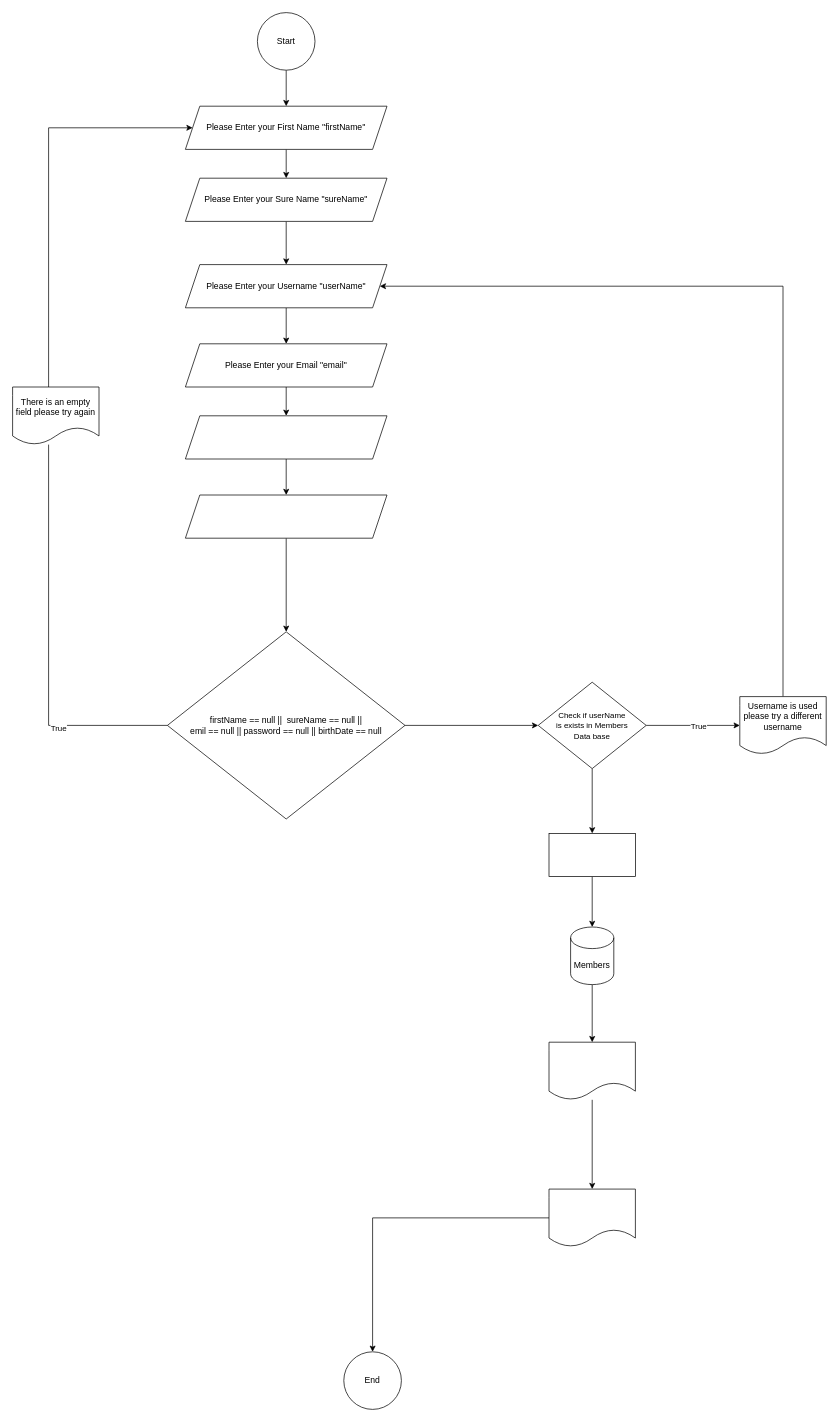
Some shapes in this 839 by 1422 pixel diagram are drawn without their labels. The box of each missing label's shape, as (x1, y1, x2, y2) in pixels:
encrypt the information: (548, 833, 635, 877)
Please Enter your Birth Date ''birthDate': (185, 494, 387, 538)
Please Enter your Psasword ''password': (185, 415, 387, 459)
The registration was successful: (548, 1041, 635, 1100)
You cane login naw: (548, 1188, 635, 1247)
